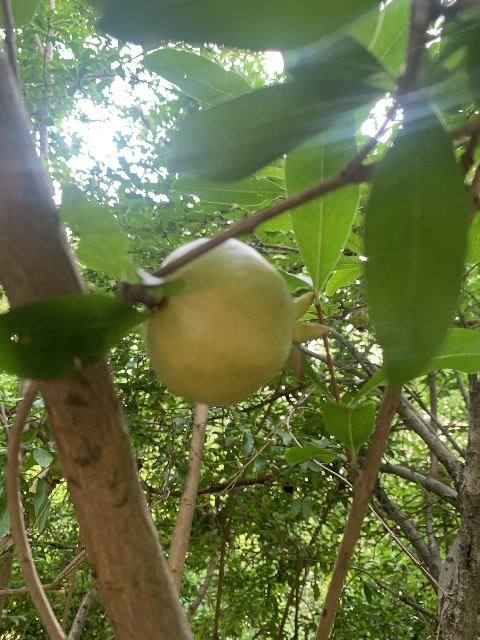mid-growth: (146, 236, 331, 406), (349, 310, 369, 332)
